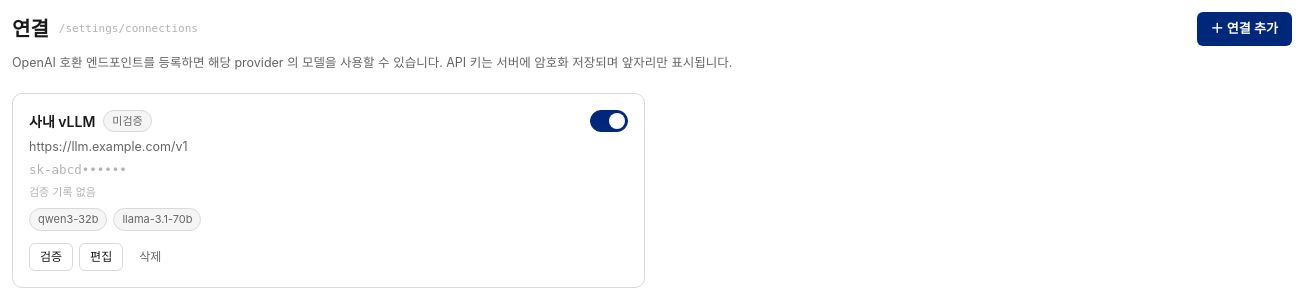
Scenario: ConnectionsManager › (e) 삭제는 확인 단계를 거친 뒤 DELETE 를 보내고 카드가 사라진다
The width and height of the screenshot is (1304, 305).
Expected: the text "사내 vLLM" is shown, [29,110,95,132]
Click the button with aria-label "삭제: 사내 vLLM".
click(150, 257)  # box [129,243,171,271]
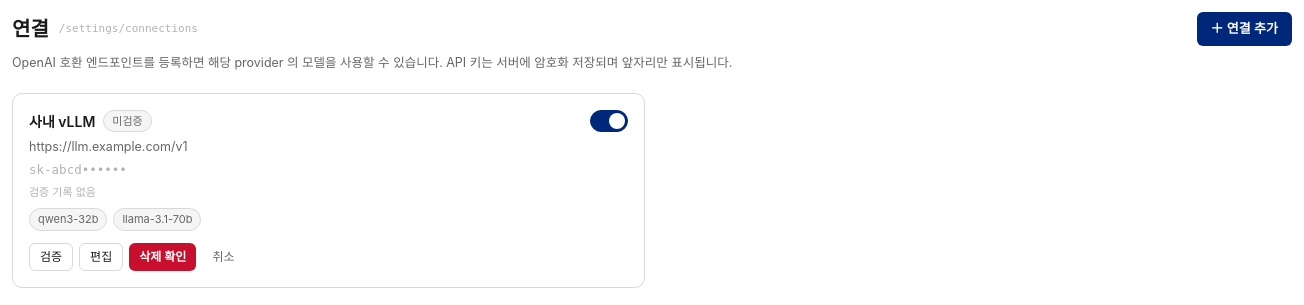
Click the button with aria-label "삭제 확인: 사내 vLLM".
click(163, 257)  # box [129,243,196,271]
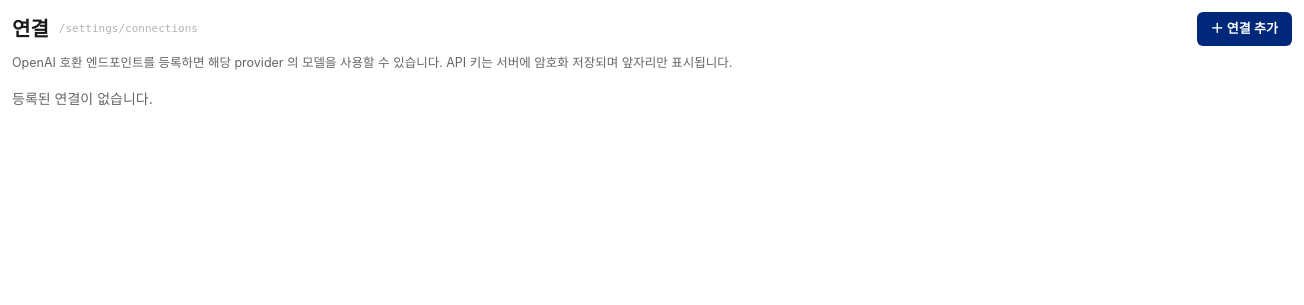
Result: the text "사내 vLLM" is gone
